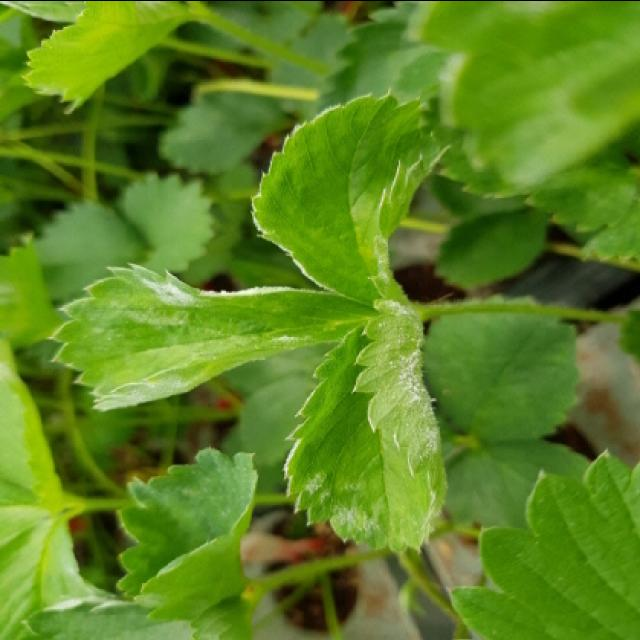Powdery Mildew Leaf: (45, 260, 379, 414), (248, 90, 452, 309), (284, 295, 448, 556)
